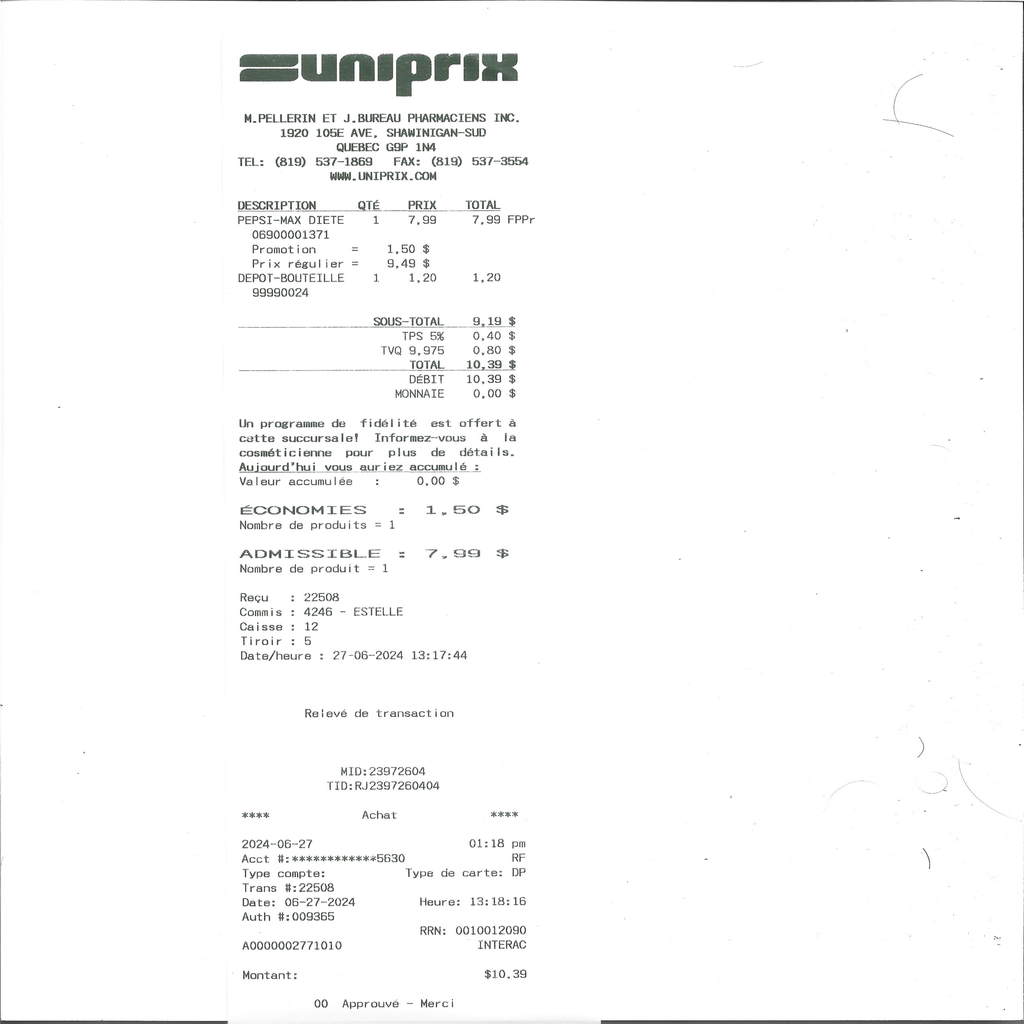recipt: (4, 2, 1022, 1016)
